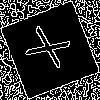X: (25, 25, 80, 74)
